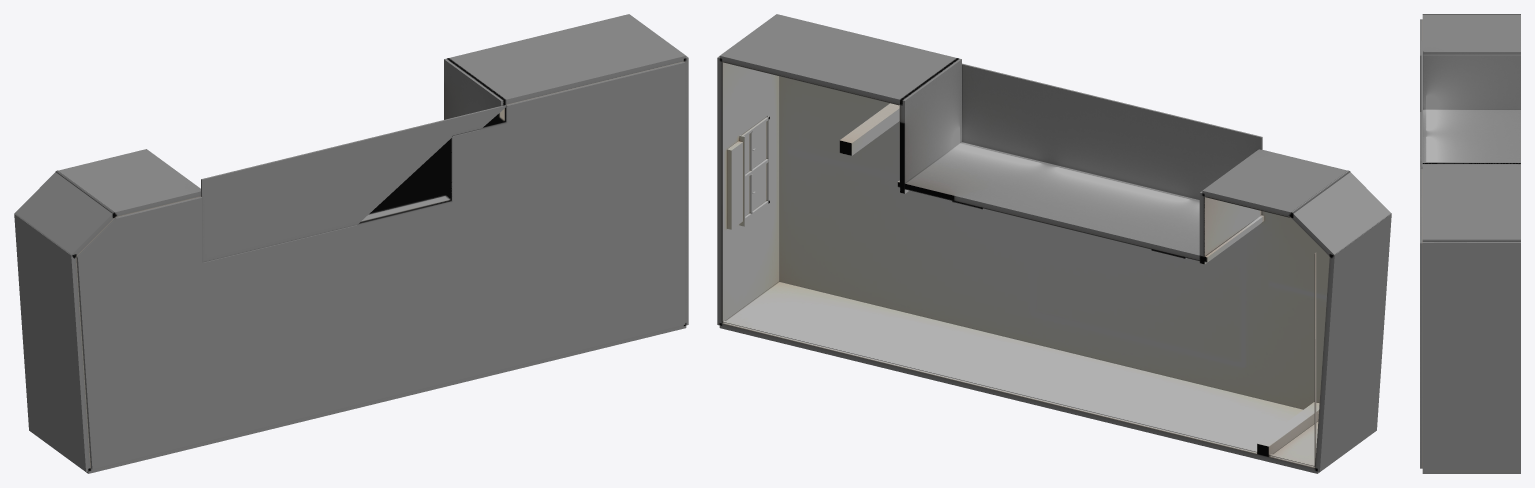
The model's file is office_shell.obj.
3 views of the same model, side by side, from view 1: azimuth 30°, elevation 25°; view 2: azimuth 150°, elevation 25°; view 3: azimuth 270°, elevation 25° (orthographic). The views are drawn at different scales.
Visible parts, largest first — view 1: BAKE_shell; view 2: BAKE_shell; view 3: BAKE_shell.
Part boxes in pixels (<box>): BAKE_shell: <box>14,14,688,473</box>; BAKE_shell: <box>717,14,1391,473</box>; BAKE_shell: <box>1420,14,1520,473</box>.
Bounding box in the file's own units: 18.74 × 7.9 × 3.08.
Materials: 1 (1 with a texture image).
